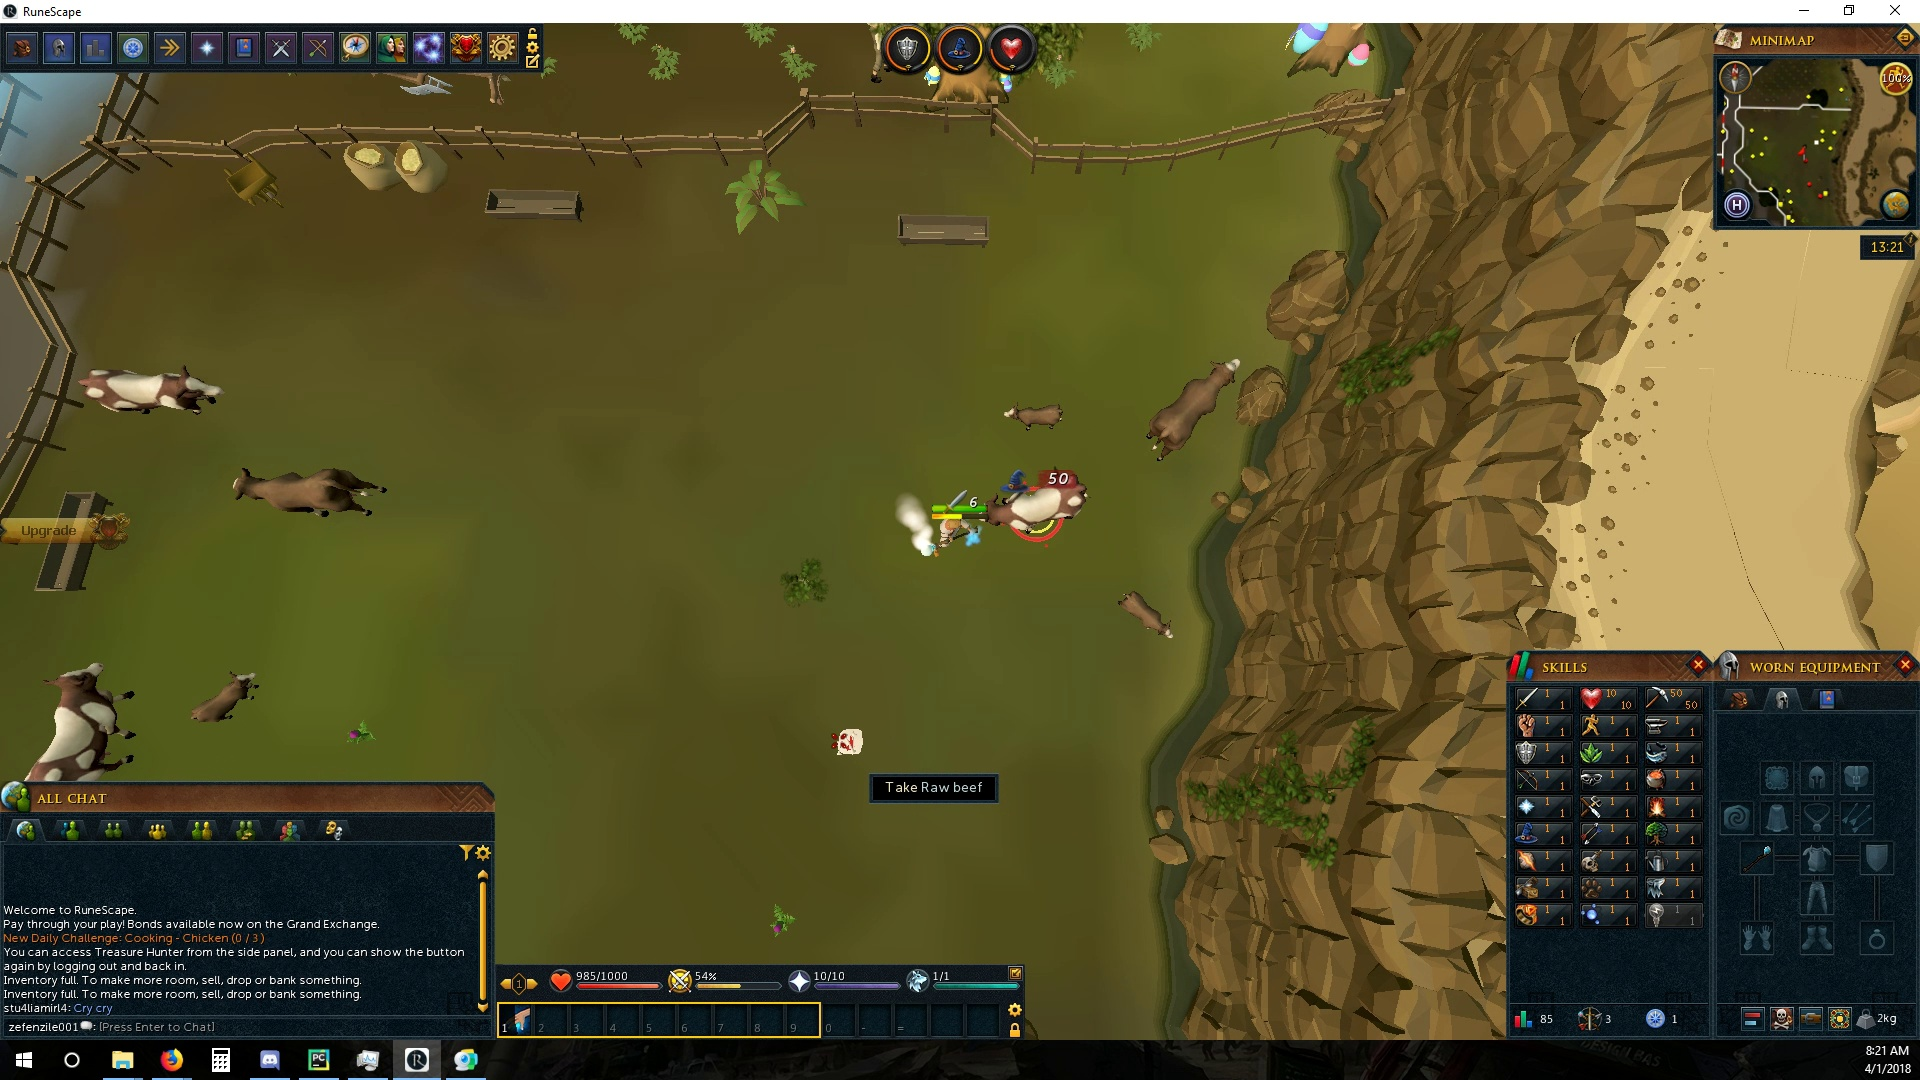calf: (187, 670, 262, 727), (1112, 589, 1175, 644), (1000, 402, 1064, 431)
cow: (18, 657, 135, 785), (1135, 353, 1247, 465), (222, 465, 394, 524), (71, 361, 231, 417), (975, 473, 1091, 537)
cow_drop: (833, 723, 866, 761)
